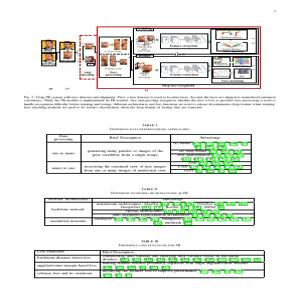diagram: (36, 23, 265, 92)
table: (43, 132, 254, 177), (30, 247, 268, 281), (40, 196, 256, 228)
text: (23, 94, 278, 111)
